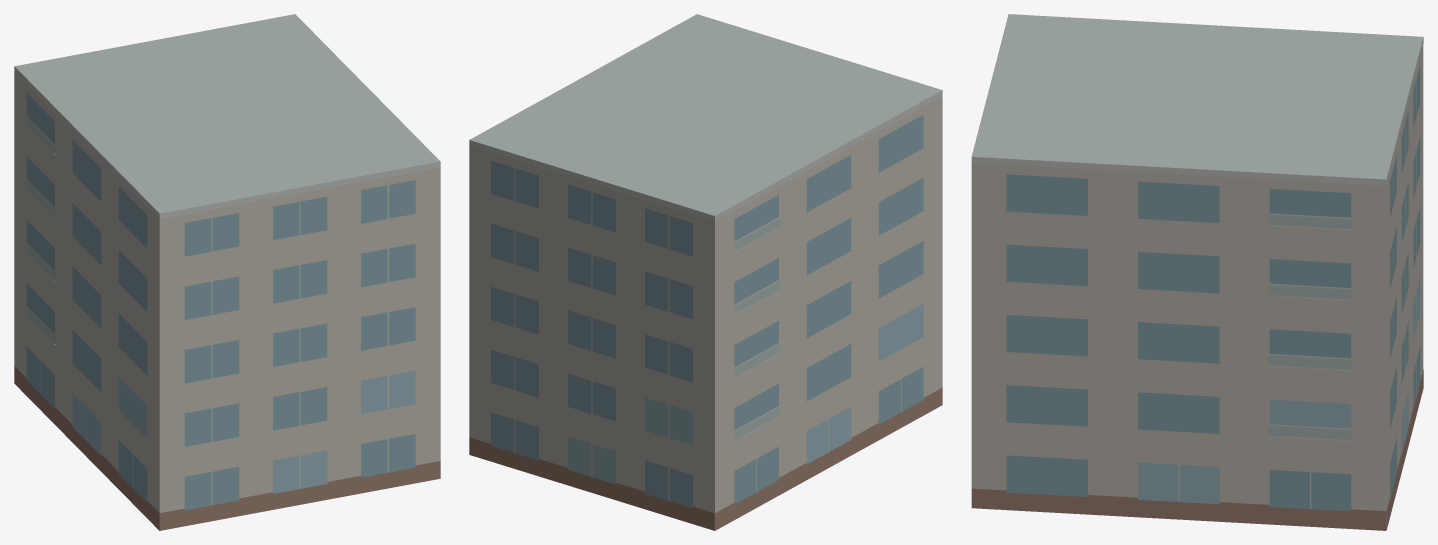
The model's file is survey-upis-33046037.glb.
3 renders of one model, left to right at view 1: azimuth 30°, elevation 25°; view 2: azimuth 150°, elevation 25°; view 3: azimuth 270°, elevation 25°, orthographic. The views are drawn at different scales.
Parts seen in each view (by area): view 1: survey-upis-33046037.tmp; view 2: survey-upis-33046037.tmp; view 3: survey-upis-33046037.tmp.
Part boxes in pixels (box(x1,y1,x2,y2)): survey-upis-33046037.tmp: box(14, 14, 440, 530); survey-upis-33046037.tmp: box(469, 14, 942, 530); survey-upis-33046037.tmp: box(971, 14, 1423, 530).
Bounding box in the file's own units: 13.65 × 13.5 × 15.75.
